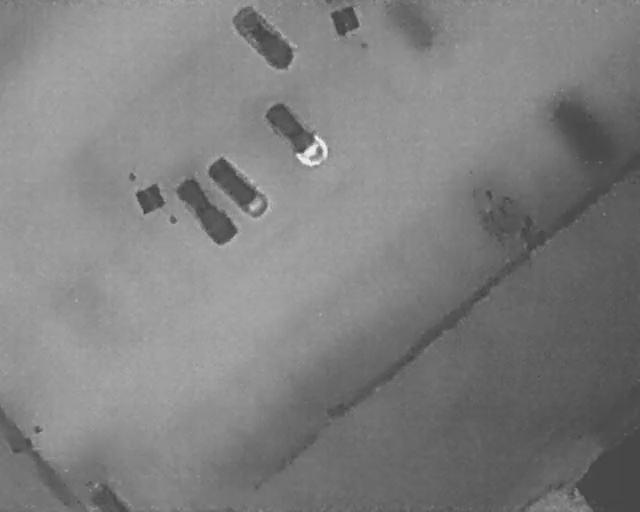Car: (256, 91, 338, 177), (169, 170, 244, 251), (227, 0, 301, 77), (200, 150, 276, 224), (87, 482, 130, 512)
